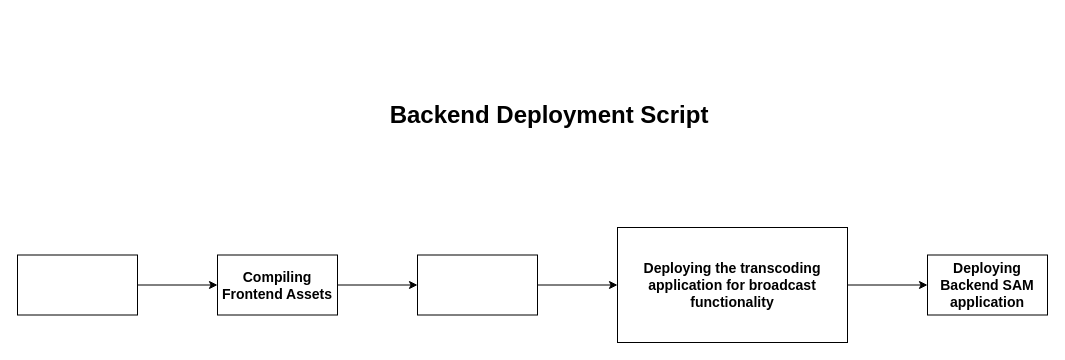
The diagram is 1065 pixels wide and 360 high, and some of its shapes have lost their labels. Each missing label, with the centre of its shape:
"Creating S3 Deployment Bucket" belongs at [477,284].
"Installing Dependencies" belongs at [77,284].
